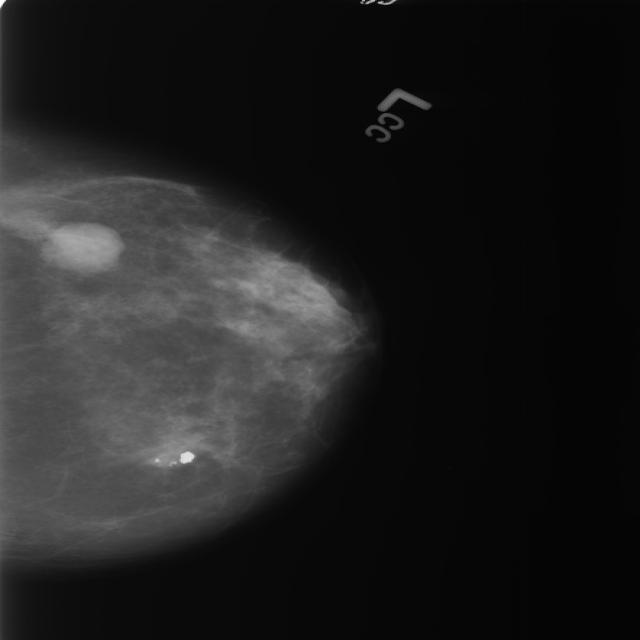tumour: (38, 220, 122, 269)
